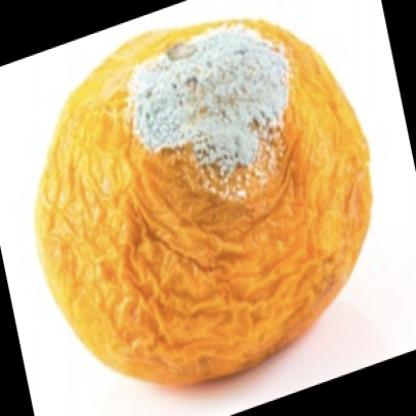rotten_orange: (21, 12, 380, 396)
